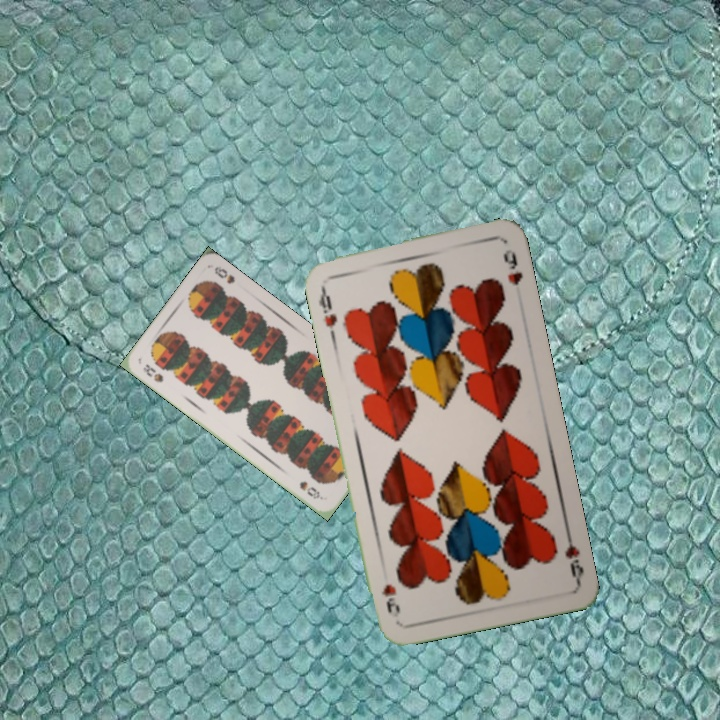H9: (561, 525, 587, 584), (314, 281, 340, 339)
S8: (139, 360, 166, 385)
